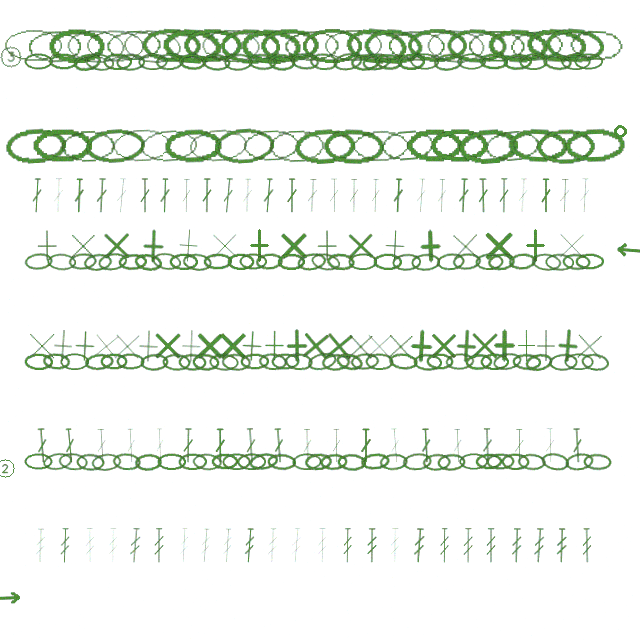chain: (344, 25, 408, 66), (121, 26, 184, 66), (4, 126, 67, 165), (187, 126, 250, 165), (482, 126, 543, 166), (525, 26, 587, 65), (213, 126, 275, 165), (84, 127, 147, 165), (293, 127, 356, 165), (161, 26, 222, 65), (544, 26, 605, 65), (65, 27, 127, 65), (425, 27, 487, 65), (457, 127, 519, 165), (378, 126, 438, 165), (240, 27, 301, 65), (363, 27, 424, 65), (487, 27, 548, 65), (138, 127, 199, 165), (507, 27, 567, 65), (200, 27, 261, 64), (111, 127, 172, 164), (241, 127, 302, 164), (507, 127, 568, 164), (564, 127, 625, 164), (446, 28, 508, 64), (104, 27, 164, 64), (141, 27, 201, 64), (267, 127, 327, 164), (85, 28, 146, 64), (323, 128, 384, 164), (567, 27, 626, 64), (59, 127, 118, 164), (220, 28, 280, 64), (282, 28, 342, 64), (386, 28, 446, 64), (351, 128, 411, 164), (536, 128, 596, 164), (302, 28, 363, 63), (323, 28, 384, 63), (407, 28, 468, 63), (164, 128, 223, 164), (3, 28, 63, 63), (183, 28, 243, 63), (260, 28, 320, 63), (466, 28, 526, 63), (32, 128, 92, 163), (26, 28, 84, 64), (430, 128, 489, 163), (48, 28, 106, 63), (406, 128, 464, 163), (306, 350, 338, 373), (310, 251, 341, 273), (334, 351, 365, 373), (72, 51, 102, 73), (524, 351, 554, 373), (332, 51, 363, 72), (361, 51, 392, 72), (97, 251, 128, 272), (151, 251, 182, 272), (296, 251, 327, 272), (492, 351, 523, 372), (42, 451, 73, 472), (248, 451, 279, 472), (564, 451, 595, 472), (540, 451, 570, 472), (84, 52, 115, 72), (531, 252, 562, 272), (91, 452, 122, 472), (433, 52, 463, 72), (542, 52, 572, 72), (83, 252, 113, 272), (133, 252, 163, 272), (182, 252, 212, 272), (84, 352, 114, 372), (580, 352, 610, 372), (290, 52, 320, 71), (452, 252, 482, 271), (258, 352, 288, 371), (350, 352, 380, 371), (388, 352, 418, 371), (445, 352, 475, 371), (58, 452, 88, 471), (360, 452, 390, 471), (402, 452, 432, 471), (155, 52, 184, 71), (309, 52, 338, 71), (24, 252, 53, 271), (68, 252, 97, 271), (255, 252, 284, 271), (326, 252, 355, 271), (436, 252, 465, 271), (487, 252, 516, 271), (508, 252, 537, 271), (42, 352, 71, 371), (284, 352, 313, 371), (112, 452, 141, 471), (304, 452, 333, 471), (350, 53, 380, 71), (209, 353, 239, 371), (221, 353, 251, 371), (321, 353, 351, 371), (192, 453, 222, 471), (116, 53, 145, 71), (178, 53, 207, 71), (202, 53, 231, 71), (224, 53, 253, 71), (248, 53, 277, 71), (503, 53, 532, 71), (47, 253, 76, 271), (118, 253, 147, 271), (392, 253, 421, 271), (411, 253, 440, 271), (545, 253, 574, 271), (562, 253, 591, 271), (140, 353, 169, 371), (162, 353, 191, 371), (178, 353, 207, 371), (413, 353, 442, 371), (512, 353, 541, 371), (549, 353, 578, 371), (76, 453, 105, 471), (134, 453, 163, 471), (267, 453, 296, 471), (337, 453, 366, 471), (379, 453, 408, 471), (422, 453, 451, 471), (437, 453, 466, 471), (517, 453, 546, 471), (583, 453, 612, 471), (138, 53, 168, 70), (561, 53, 591, 70), (564, 353, 594, 370), (292, 453, 322, 470), (268, 53, 296, 71), (375, 53, 403, 71), (192, 353, 220, 371), (465, 353, 493, 371), (320, 453, 348, 471), (24, 53, 53, 70), (49, 53, 78, 70), (103, 53, 132, 70), (410, 53, 439, 70), (457, 53, 486, 70), (479, 53, 508, 70), (519, 53, 548, 70), (574, 53, 603, 70), (169, 253, 198, 270), (203, 253, 232, 270), (348, 253, 377, 270), (373, 253, 402, 270), (475, 253, 504, 270), (575, 253, 604, 270), (24, 353, 53, 370), (60, 353, 89, 370), (116, 353, 145, 370), (240, 353, 269, 370), (271, 353, 300, 370), (365, 353, 394, 370), (480, 353, 509, 370), (24, 453, 53, 470), (157, 453, 186, 470), (178, 453, 207, 470), (222, 453, 251, 470), (237, 453, 266, 470), (459, 453, 488, 470), (486, 453, 515, 470), (501, 453, 530, 470), (397, 53, 425, 70), (227, 253, 255, 270), (239, 253, 267, 270), (277, 253, 305, 270), (100, 353, 128, 370), (426, 353, 454, 370), (211, 453, 239, 470), (475, 453, 503, 470)
double: (114, 178, 129, 213), (221, 178, 235, 213), (414, 178, 428, 213), (516, 178, 530, 213), (35, 428, 49, 463), (63, 428, 77, 463), (94, 428, 108, 463), (244, 428, 258, 463), (272, 428, 286, 463), (388, 428, 402, 463), (52, 178, 65, 213), (95, 178, 108, 213), (241, 178, 254, 213), (262, 178, 275, 213), (306, 178, 319, 213), (457, 178, 470, 213), (558, 178, 571, 213), (578, 178, 591, 213), (301, 428, 314, 463), (451, 428, 464, 463), (481, 428, 494, 463), (571, 428, 584, 463), (31, 178, 43, 213), (73, 178, 85, 213), (139, 178, 151, 213), (159, 178, 171, 213), (201, 178, 213, 213), (286, 178, 298, 213), (328, 178, 340, 213), (348, 178, 360, 213), (392, 178, 404, 213), (436, 178, 448, 213), (477, 178, 489, 213), (498, 178, 510, 213), (540, 178, 552, 213), (125, 428, 137, 463), (154, 428, 166, 463), (182, 428, 194, 463), (214, 428, 226, 463), (360, 428, 372, 463), (420, 428, 432, 463), (513, 428, 525, 463), (544, 428, 556, 463), (181, 178, 192, 213), (370, 178, 381, 213), (331, 428, 342, 463)
noise: (0, 44, 23, 69), (614, 242, 640, 258), (0, 457, 16, 479), (612, 123, 629, 140), (0, 592, 22, 604)
single: (87, 327, 125, 365), (320, 327, 358, 365), (170, 227, 207, 264), (44, 327, 81, 364), (297, 327, 334, 364), (549, 327, 586, 364), (135, 228, 171, 264), (377, 228, 413, 264), (412, 228, 448, 264), (447, 228, 483, 264), (67, 328, 103, 364), (109, 328, 145, 364), (130, 328, 166, 364), (173, 328, 209, 364), (234, 328, 270, 364), (342, 328, 378, 364), (361, 328, 397, 364), (382, 328, 418, 364), (403, 328, 439, 364), (448, 328, 484, 364), (571, 328, 607, 364), (29, 228, 64, 263), (65, 228, 100, 263), (99, 228, 134, 263), (207, 228, 242, 263), (242, 228, 277, 263), (276, 228, 311, 263), (309, 228, 344, 263), (343, 228, 378, 263), (481, 228, 516, 263), (518, 228, 553, 263), (554, 228, 589, 263), (24, 328, 59, 363), (150, 328, 185, 363), (192, 328, 227, 363), (215, 328, 250, 363), (257, 328, 292, 363), (279, 328, 314, 363), (426, 328, 461, 363), (467, 328, 502, 363), (487, 328, 522, 363), (509, 328, 544, 363), (528, 328, 563, 363)
treble: (128, 528, 142, 563), (289, 528, 303, 563), (412, 528, 426, 563), (532, 528, 546, 563), (34, 528, 47, 563), (199, 528, 212, 563), (221, 528, 234, 563), (243, 528, 256, 563), (266, 528, 279, 563), (510, 528, 523, 563), (555, 528, 568, 563), (59, 528, 71, 563), (84, 528, 96, 563), (107, 528, 119, 563), (153, 528, 165, 563), (178, 528, 190, 563), (316, 528, 328, 563), (366, 528, 378, 563), (389, 528, 401, 563), (462, 528, 474, 563), (485, 528, 497, 563), (581, 528, 593, 563), (342, 528, 353, 563), (439, 528, 450, 563)
